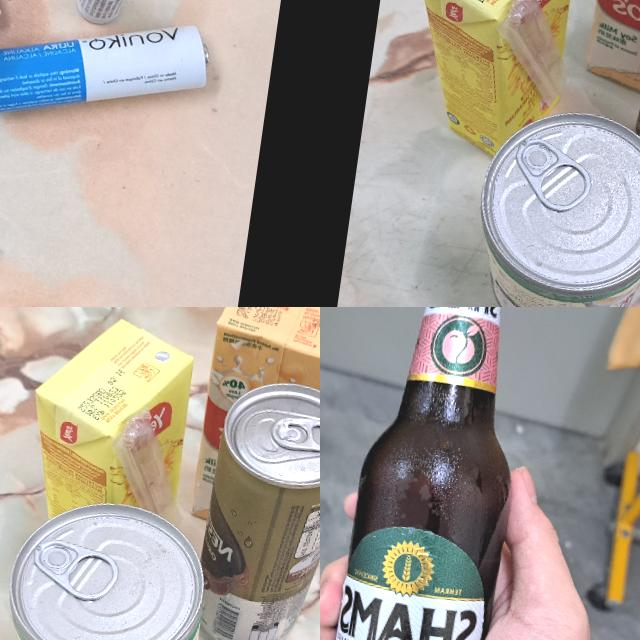aba de lata: (509, 136, 596, 218), (27, 534, 122, 604), (268, 411, 320, 456)
bateria: (0, 0, 216, 141), (72, 0, 147, 30)
caixinha: (16, 307, 199, 538), (187, 307, 320, 542), (395, 0, 585, 161)
garrafa de vidro: (320, 307, 545, 640)
lata: (461, 102, 640, 307), (185, 369, 320, 640), (0, 488, 214, 640)
